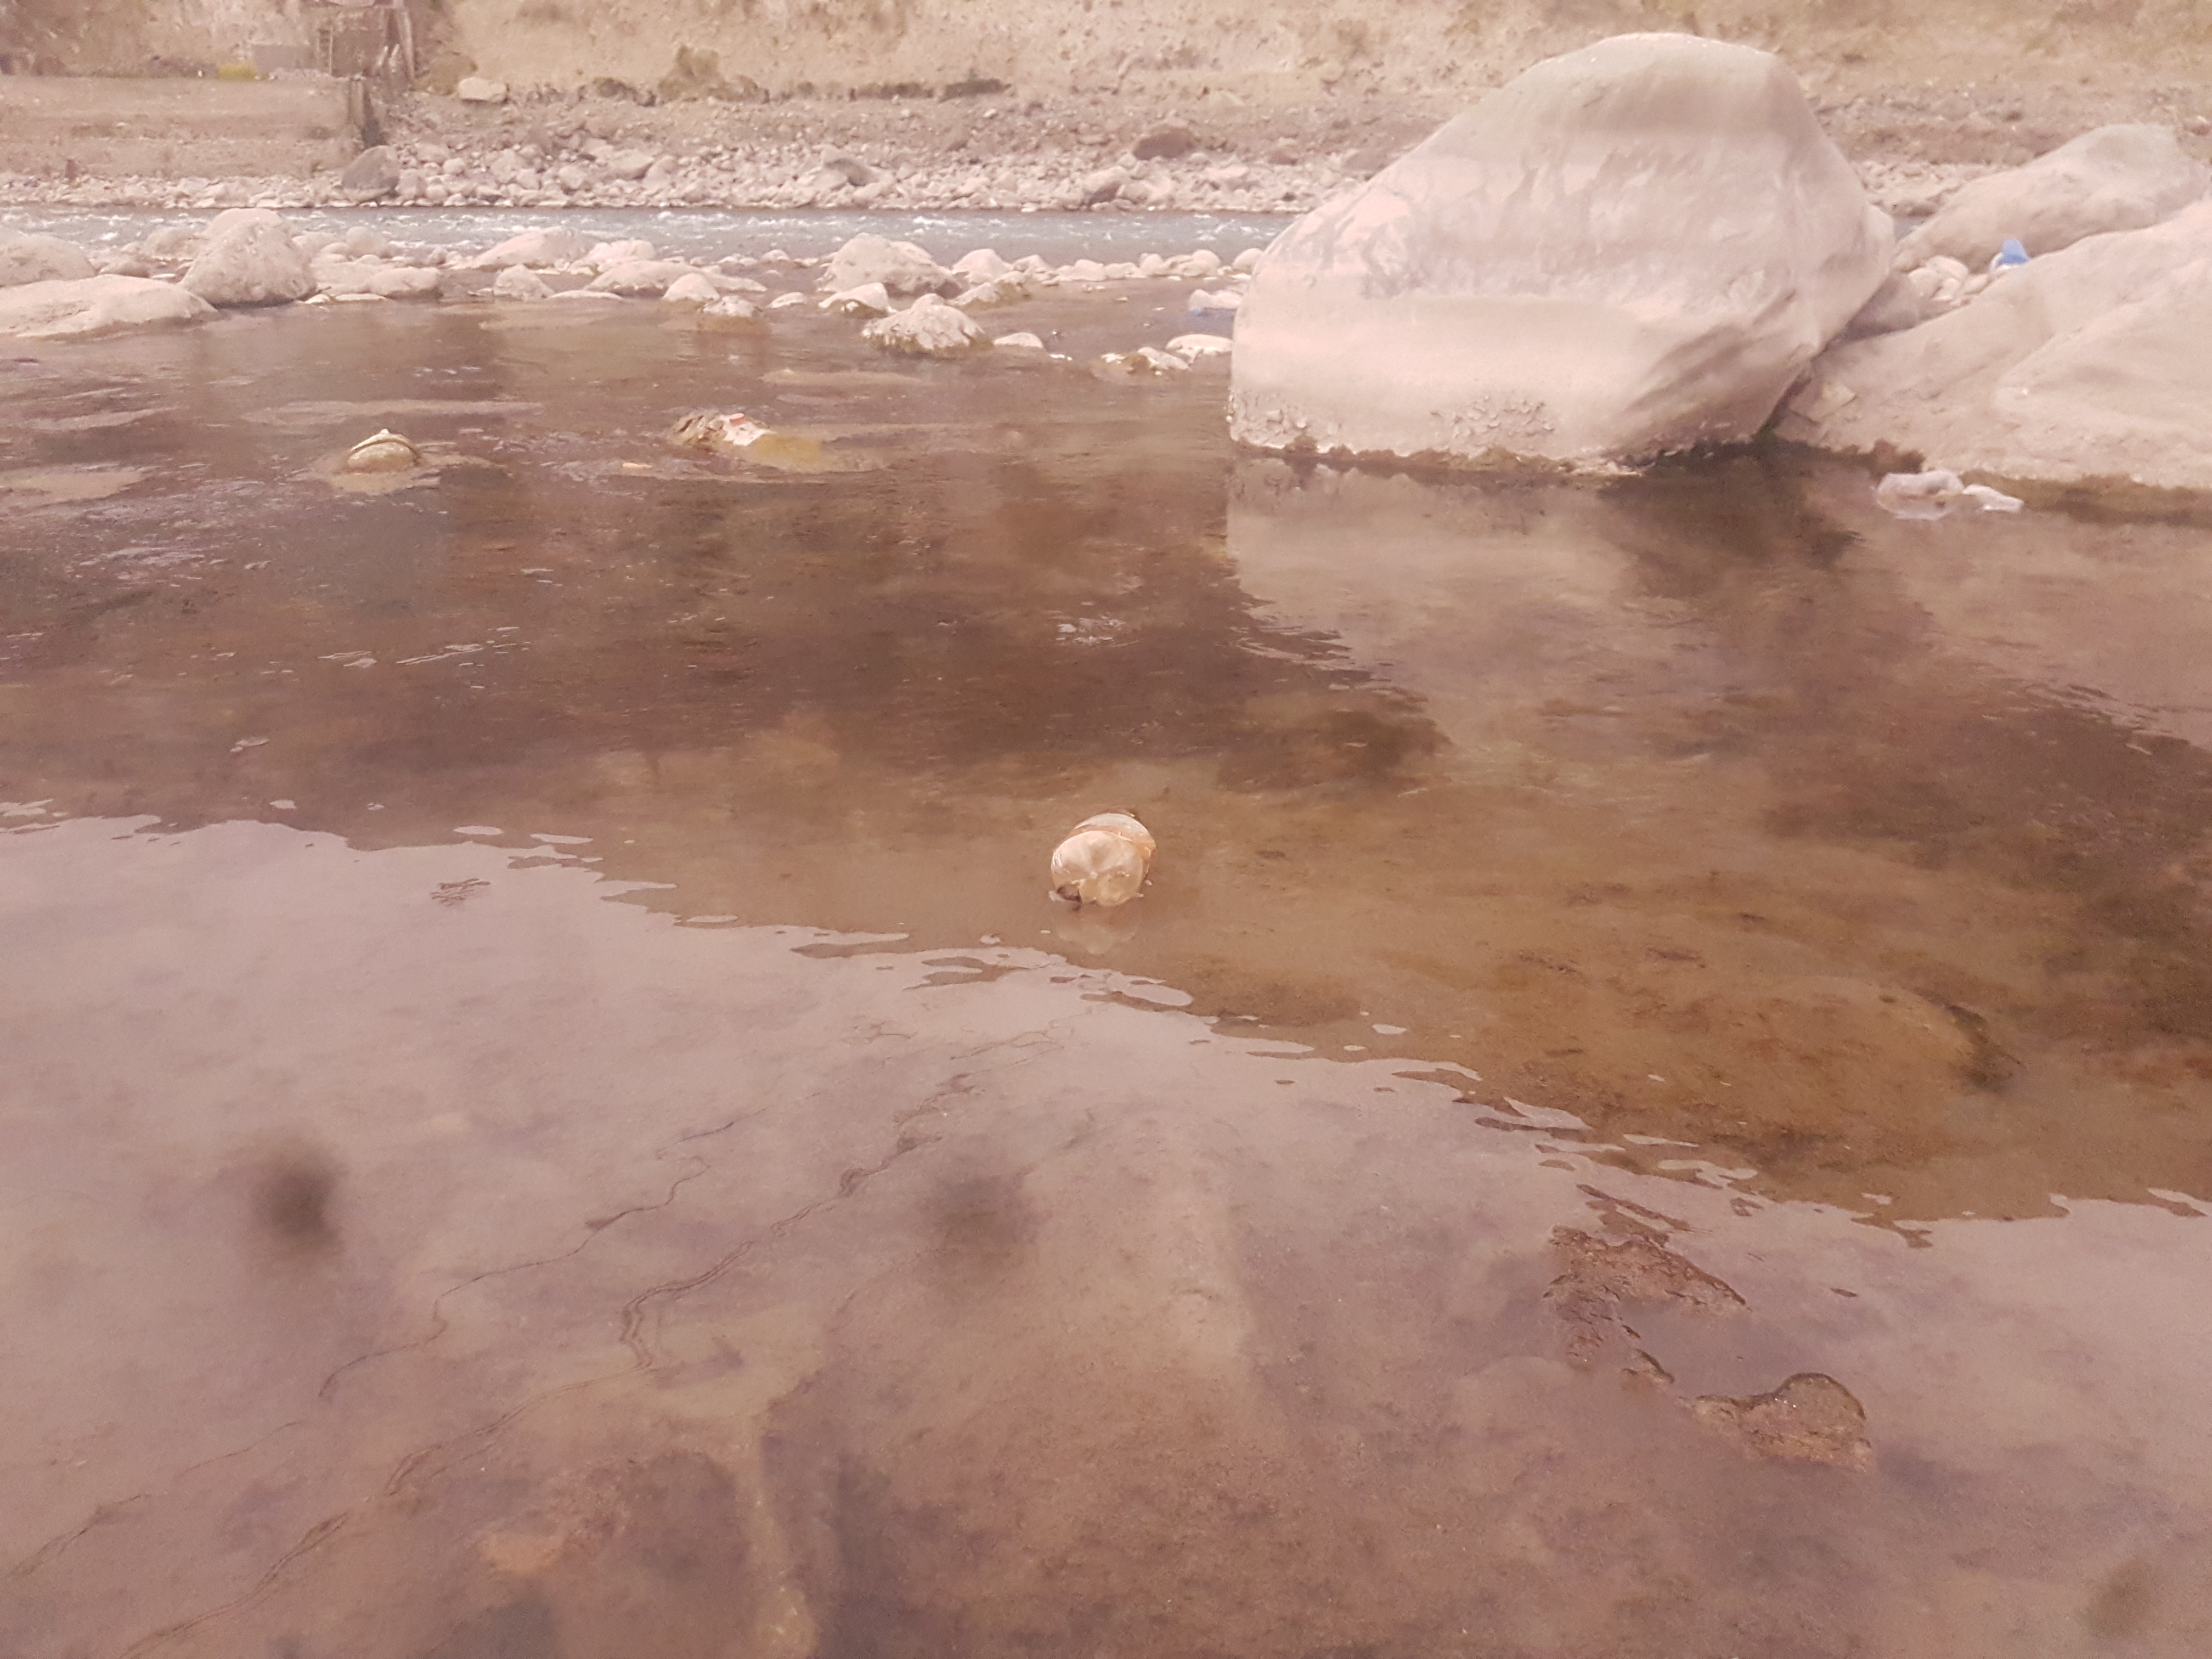Plastic Bottle: (1052, 805, 1157, 906), (1191, 305, 1209, 315)
